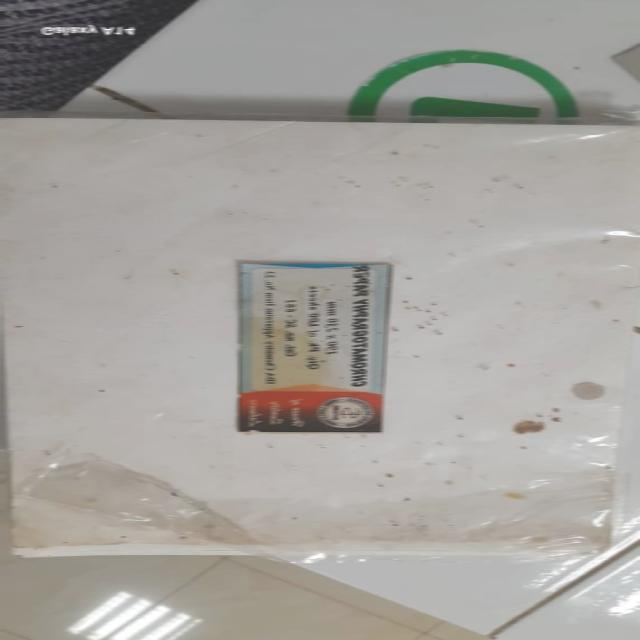Paper Chromatography: (5, 115, 631, 553)
